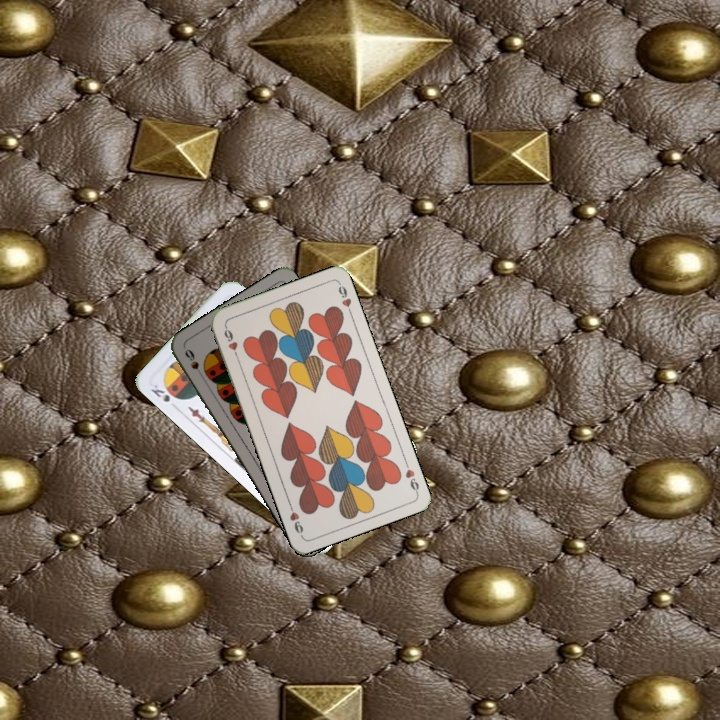H9: (401, 456, 422, 496), (220, 322, 241, 361)
S9: (180, 345, 207, 382)
SK: (147, 380, 172, 405)
